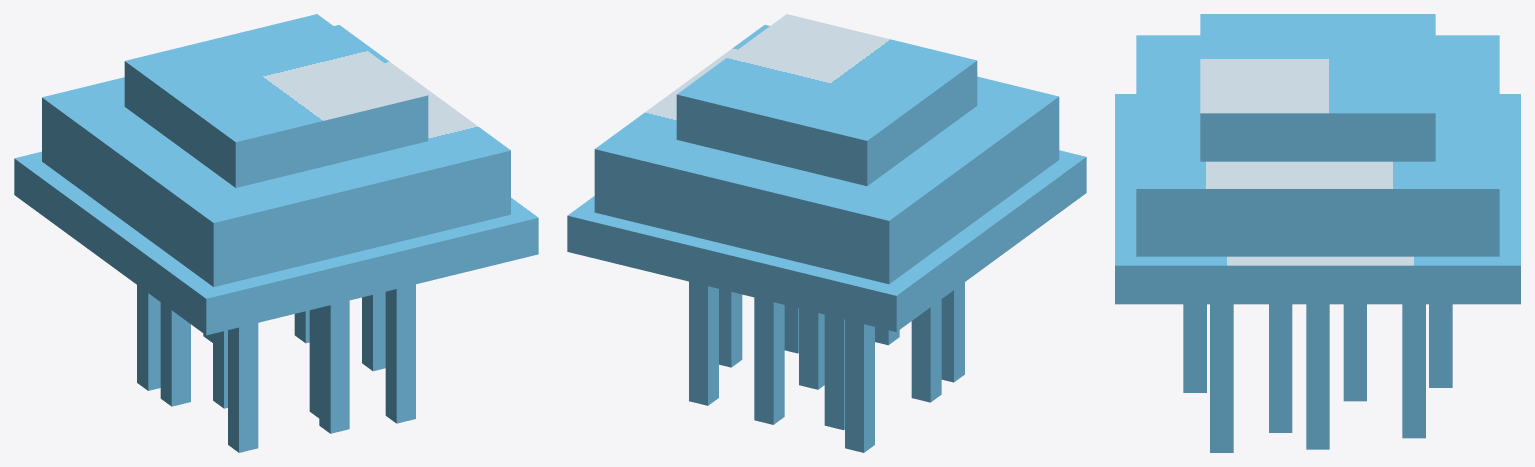
The model's file is jellyfish.glb.
3 views of the same model, side by side, from view 1: azimuth 30°, elevation 25°; view 2: azimuth 150°, elevation 25°; view 3: azimuth 270°, elevation 25° (orthographic). The views are drawn at different scales.
Parts seen in each view (by area): view 1: dome_mid, dome_top, dome_skirt, tentacle_3, tentacle_5, tentacle_2, tentacle_6, tentacle_0, tentacle_7, tentacle_9, tentacle_8; view 2: dome_mid, dome_top, dome_skirt, tentacle_0, tentacle_4, tentacle_1, tentacle_6, tentacle_8, tentacle_2, tentacle_9, tentacle_7, tentacle_3; view 3: dome_mid, dome_top, dome_skirt, tentacle_3, tentacle_7, tentacle_1, tentacle_9, tentacle_8, tentacle_5, tentacle_4.
Boxes of the visible parts, <box> form: dome_mid: <box>42,25,510,286</box>; dome_top: <box>124,14,428,187</box>; dome_skirt: <box>14,151,538,335</box>; tentacle_3: <box>385,284,415,423</box>; tentacle_5: <box>319,300,349,433</box>; tentacle_2: <box>228,323,258,452</box>; tentacle_6: <box>160,302,190,406</box>; tentacle_0: <box>137,285,160,390</box>; tentacle_7: <box>362,292,385,371</box>; tentacle_9: <box>309,308,319,418</box>; tentacle_8: <box>213,330,227,408</box>; dome_mid: <box>594,25,1059,284</box>; dome_top: <box>676,14,977,185</box>; dome_skirt: <box>567,150,1086,331</box>; tentacle_0: <box>845,319,874,452</box>; tentacle_4: <box>754,297,784,424</box>; tentacle_1: <box>689,281,718,405</box>; tentacle_6: <box>911,299,941,402</box>; tentacle_8: <box>824,315,844,430</box>; tentacle_2: <box>941,282,964,382</box>; tentacle_9: <box>799,308,824,389</box>; tentacle_7: <box>719,289,742,367</box>; tentacle_3: <box>784,305,798,353</box>; dome_mid: <box>1136,35,1499,256</box>; dome_top: <box>1200,14,1435,161</box>; dome_skirt: <box>1115,94,1520,304</box>; tentacle_3: <box>1210,304,1233,452</box>; tentacle_7: <box>1306,304,1329,449</box>; tentacle_1: <box>1402,304,1425,438</box>; tentacle_9: <box>1269,304,1292,432</box>; tentacle_8: <box>1343,304,1366,401</box>; tentacle_5: <box>1183,304,1206,392</box>; tentacle_4: <box>1429,304,1452,387</box>.
Size of the model in its own units: 0.475 by 0.45 by 0.475.
Materials: 1 (1 with a texture image).
